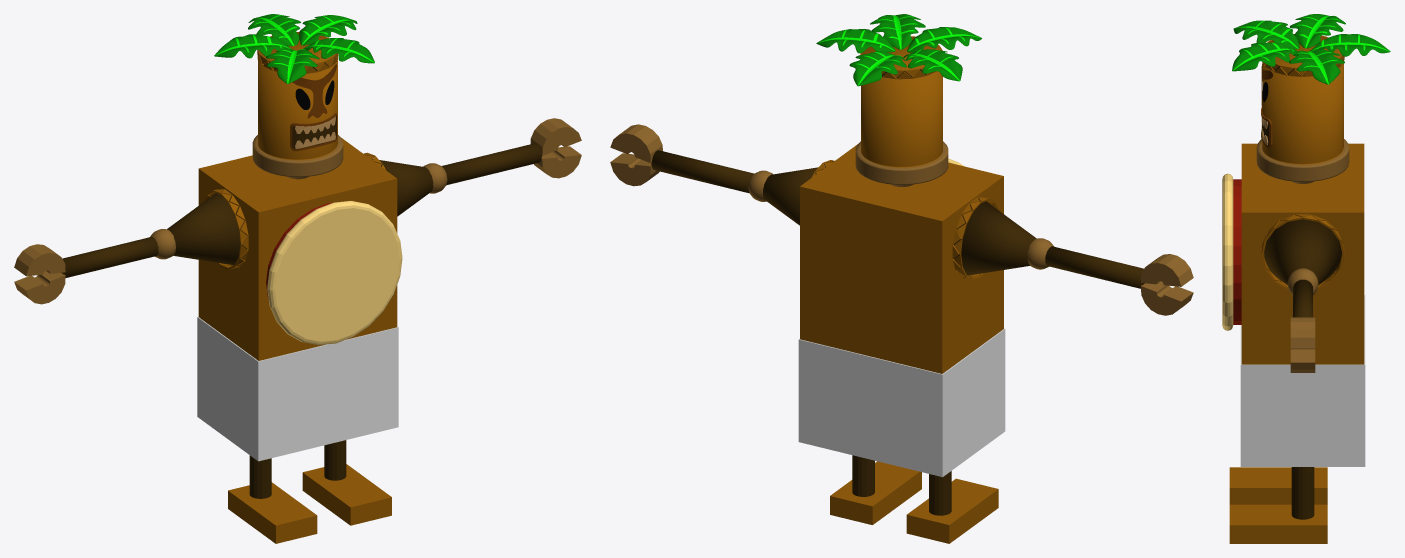
File: Tiki.fbx
The picture shows the model from 3 angles, left to right: view 1: azimuth 30°, elevation 25°; view 2: azimuth 150°, elevation 25°; view 3: azimuth 270°, elevation 25°; orthographic projection. The views are drawn at different scales.
Visible parts, largest first — view 1: Plane.038, Plane.036, Circle.009, Cylinder.004, Dummy, Plane.039, Plane.035, Plane.037, Cylinder.005, Plane.032, Plane.034; view 2: Plane.036, Plane.038, Cylinder.004, Dummy, Plane.039, Plane.035, Plane.037, Cylinder.005, Cylinder.003; view 3: Plane.036, Plane.038, Dummy, Plane.039, Plane.035, Cylinder.004, Circle.009, Plane.037, Cylinder.005, Cylinder.003, Cylinder.002, Cylinder.001 (+1 smaller).
Boxes of the visible parts, x1=… form: Plane.038: x1=197, y1=316, x2=398, y2=461; Plane.036: x1=198, y1=138, x2=397, y2=360; Circle.009: x1=266, y1=200, x2=402, y2=345; Cylinder.004: x1=61, y1=143, x2=541, y2=278; Dummy: x1=252, y1=32, x2=343, y2=179; Plane.039: x1=228, y1=464, x2=391, y2=543; Plane.035: x1=214, y1=14, x2=374, y2=83; Plane.037: x1=14, y1=118, x2=581, y2=304; Cylinder.005: x1=249, y1=440, x2=346, y2=498; Plane.032: x1=290, y1=113, x2=336, y2=151; Plane.034: x1=292, y1=64, x2=336, y2=118; Plane.036: x1=800, y1=144, x2=1003, y2=373; Plane.038: x1=798, y1=328, x2=1005, y2=477; Cylinder.004: x1=651, y1=150, x2=1144, y2=288; Dummy: x1=855, y1=36, x2=948, y2=186; Plane.039: x1=830, y1=461, x2=998, y2=543; Plane.035: x1=816, y1=14, x2=981, y2=86; Plane.037: x1=610, y1=124, x2=1193, y2=315; Cylinder.005: x1=852, y1=455, x2=951, y2=515; Cylinder.003: x1=811, y1=160, x2=1000, y2=280; Plane.036: x1=1241, y1=143, x2=1364, y2=364; Plane.038: x1=1240, y1=295, x2=1365, y2=466; Dummy: x1=1256, y1=34, x2=1349, y2=183; Plane.039: x1=1229, y1=467, x2=1327, y2=543; Plane.035: x1=1232, y1=14, x2=1390, y2=84; Cylinder.004: x1=1264, y1=219, x2=1341, y2=317; Circle.009: x1=1222, y1=173, x2=1241, y2=330; Plane.037: x1=1290, y1=317, x2=1315, y2=372; Cylinder.005: x1=1291, y1=467, x2=1314, y2=519; Cylinder.003: x1=1261, y1=215, x2=1344, y2=290; Cylinder.002: x1=1261, y1=214, x2=1344, y2=287; Cylinder.001: x1=1262, y1=56, x2=1344, y2=76.
Bounding box in the file's own units: 1604 × 412 × 1287.
